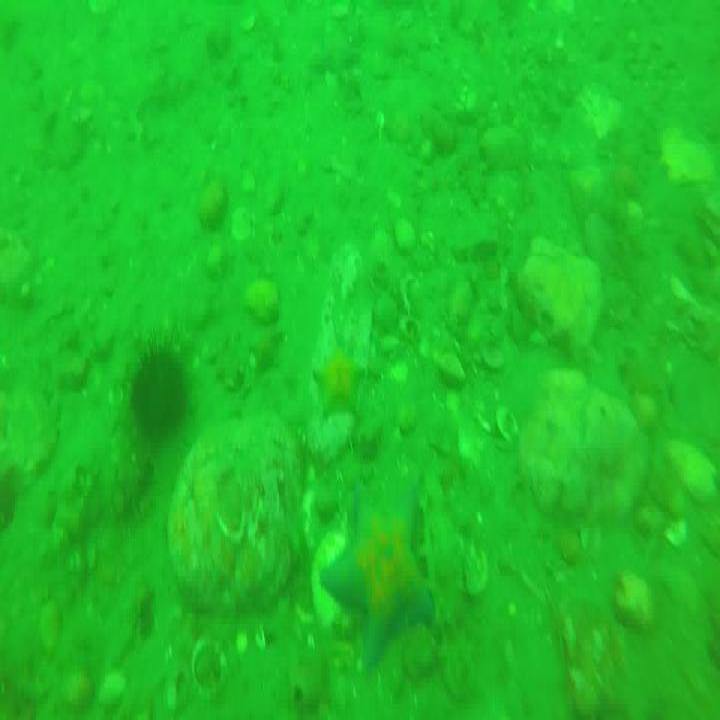echinus: (131, 336, 185, 436)
scallop: (306, 533, 347, 633), (192, 640, 229, 697), (497, 409, 523, 444), (440, 350, 464, 384), (476, 340, 503, 370), (403, 311, 425, 345), (398, 221, 417, 254)
starfish: (320, 476, 433, 668), (311, 339, 363, 425)
